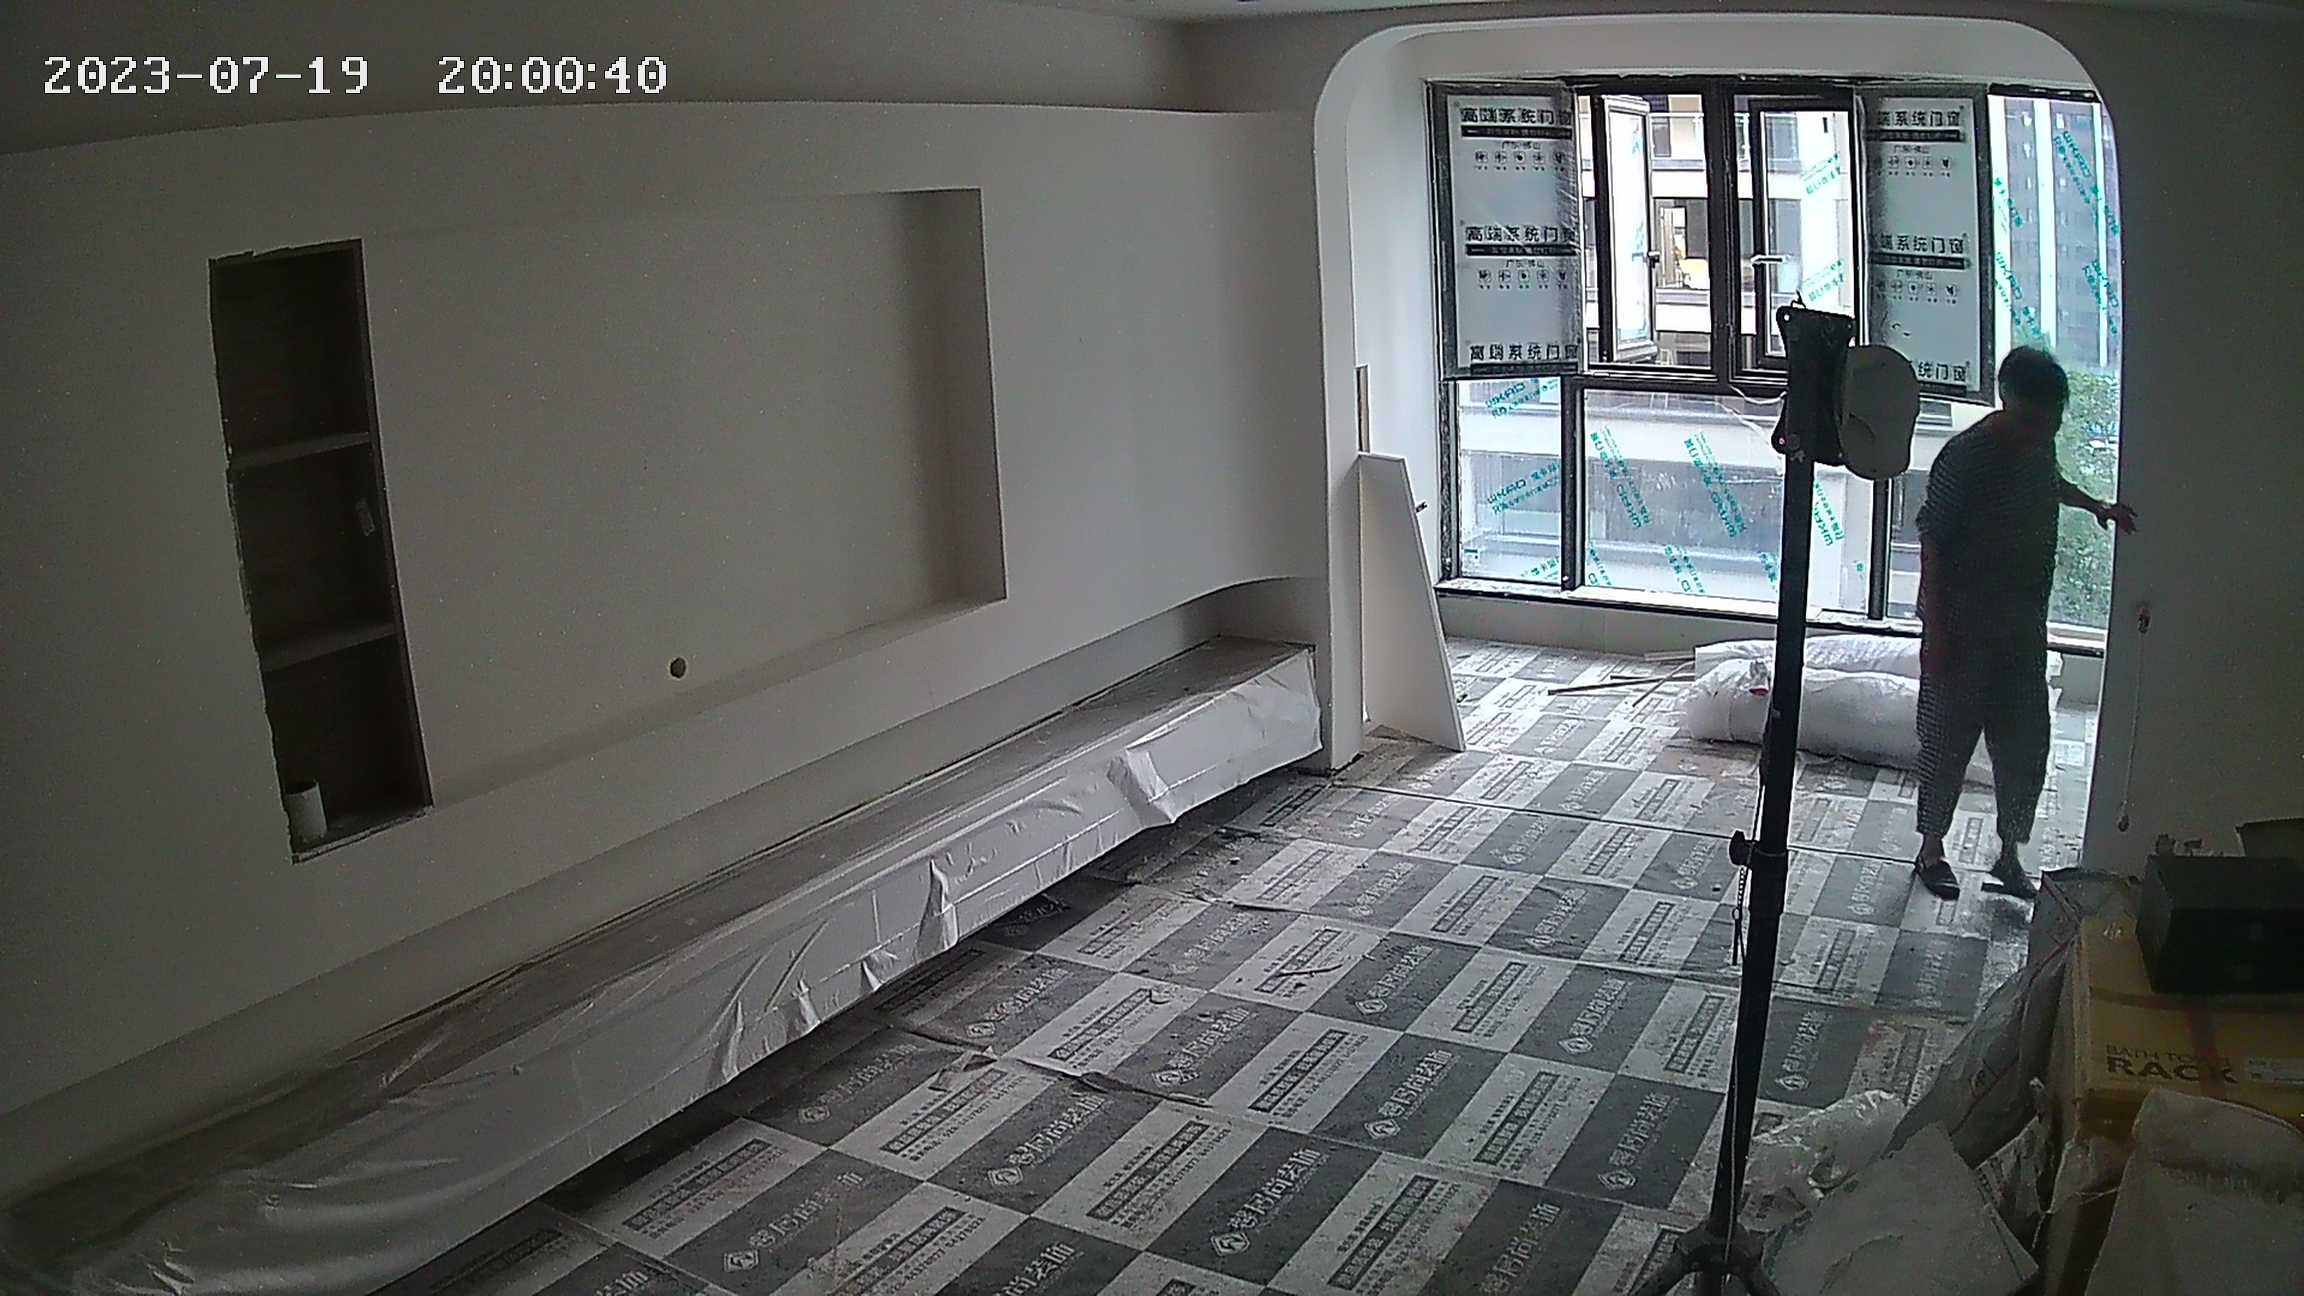people: (1911, 349, 2138, 893)
window: (1417, 79, 2120, 662)
